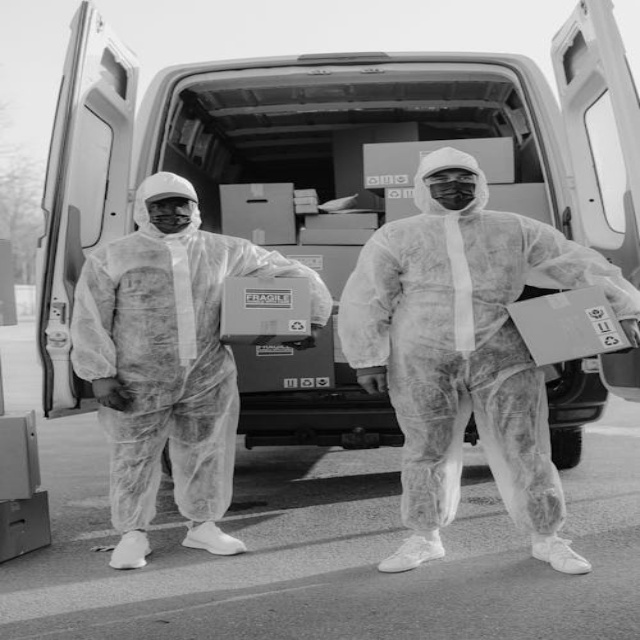Mascara: (429, 179, 475, 210), (147, 206, 195, 232)
Sin_gafas: (425, 169, 475, 181)
Sin_guantes: (87, 374, 131, 414), (355, 370, 389, 395)
